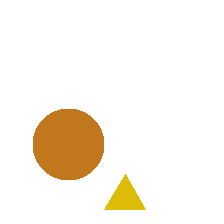circle: (33, 109, 103, 179)
triangle: (104, 174, 145, 209)
